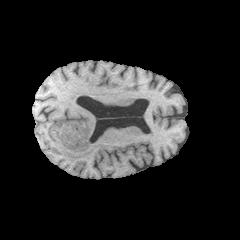glioma: (50, 109, 95, 162)
